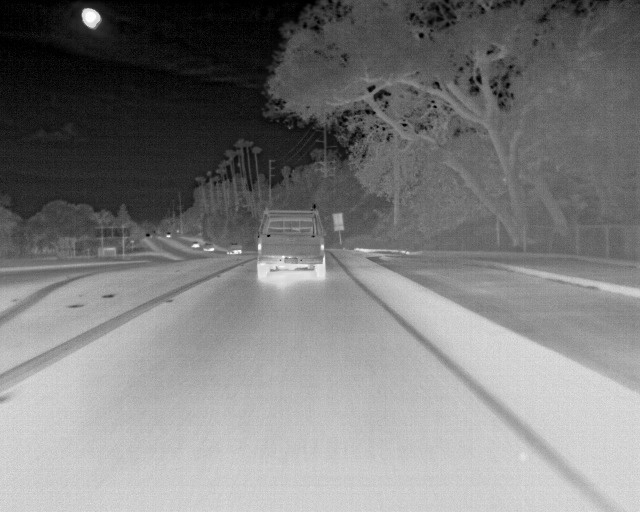vehicle: (256, 209, 329, 279)
